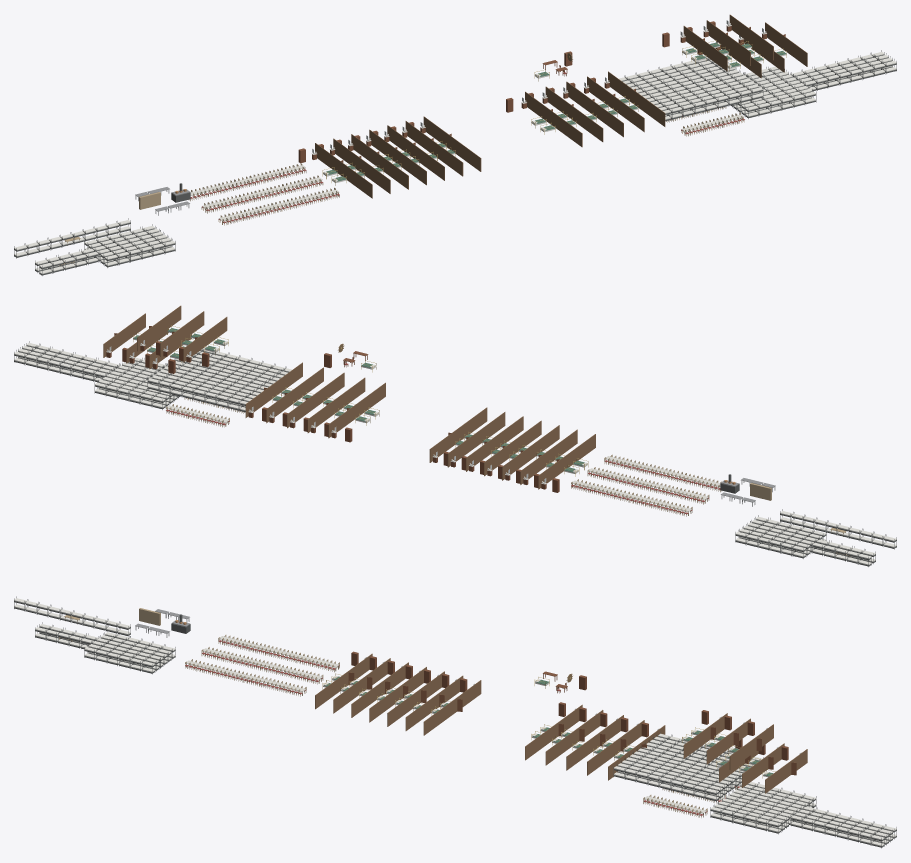
Rendered from Interiors_Cabins.glb.
3 renders of one model, top to bottom at view 1: azimuth 30°, elevation 25°; view 2: azimuth 150°, elevation 25°; view 3: azimuth 330°, elevation 25°, orthographic.
Parts seen in each view (by area): view 1: Third_Class, Staterooms, Galley; view 2: Third_Class, Staterooms, Galley; view 3: Third_Class, Staterooms, Galley.
Boxes of the visible parts, x1,y1,x2,y2 form: Third_Class: [14, 50, 896, 275]; Staterooms: [298, 14, 807, 198]; Galley: [135, 183, 190, 215]; Third_Class: [14, 341, 896, 566]; Staterooms: [103, 305, 595, 492]; Galley: [720, 474, 775, 506]; Third_Class: [14, 596, 896, 848]; Staterooms: [315, 651, 807, 793]; Galley: [135, 608, 190, 637].
Size of the model in its own units: 152 by 15.07 by 17.2.
